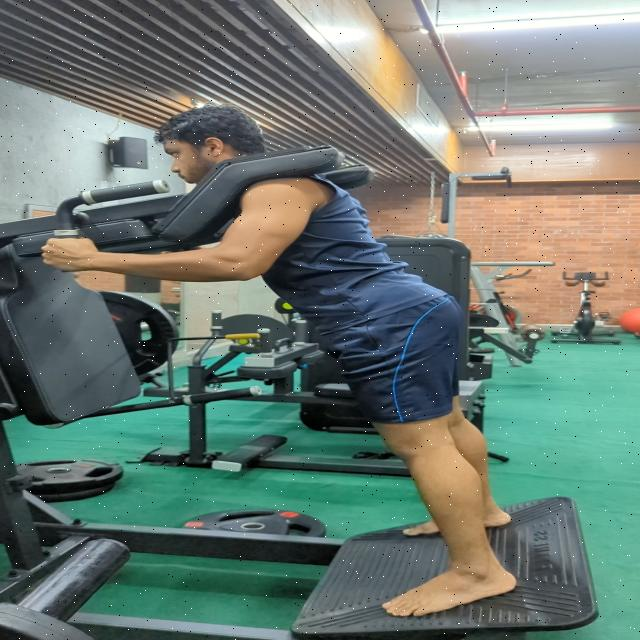Normal_SquatsWithBarbell: (0, 90, 640, 630)
